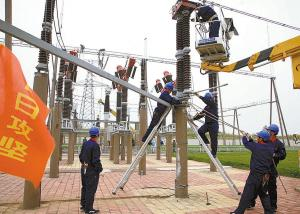helmet: (259, 131, 272, 141), (90, 127, 101, 137), (269, 125, 281, 133), (167, 83, 176, 91), (205, 93, 214, 100)
